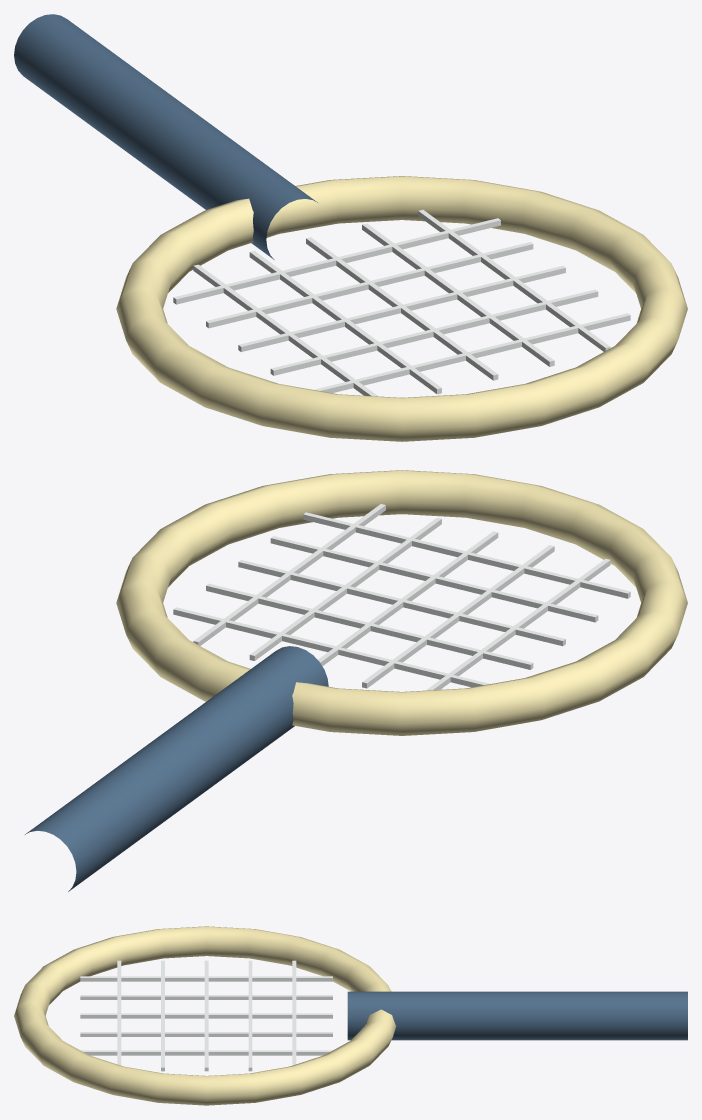
File: racket.glb
3 views of the same model, one above another, from view 1: azimuth 30°, elevation 25°; view 2: azimuth 150°, elevation 25°; view 3: azimuth 270°, elevation 25° (orthographic). The views are drawn at different scales.
Visible parts, largest first — view 1: frame, string (×10), grip; view 2: frame, string (×10), grip; view 3: frame, grip, string (×10).
Part boxes in pixels (left/top/right/bottom): frame: left=116, top=176, right=687, bottom=441; string (×10): left=173, top=209, right=630, bottom=396; grip: left=14, top=14, right=317, bottom=259; frame: left=116, top=470, right=687, bottom=735; string (×10): left=173, top=504, right=630, bottom=690; grip: left=25, top=646, right=328, bottom=891; frame: left=14, top=926, right=396, bottom=1105; grip: left=347, top=991, right=687, bottom=1040; string (×10): left=80, top=960, right=332, bottom=1071.
Size of the model in its own units: 0.3965 by 0.05 by 0.6933.
